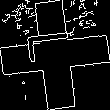L_E: (28, 37, 82, 73)
